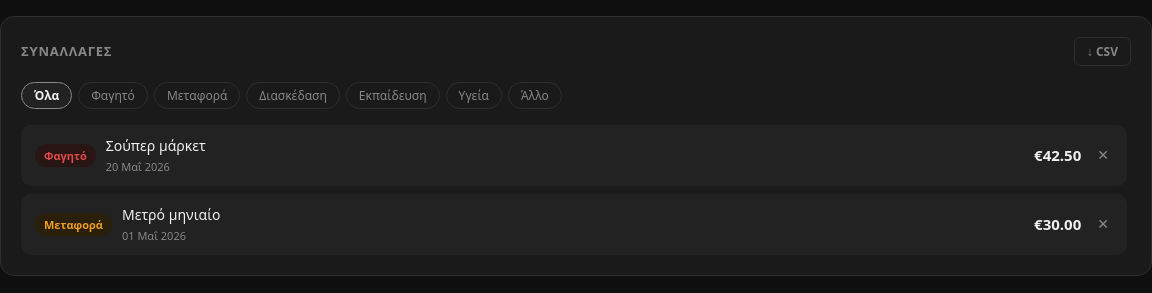
ExpenseList — category filter › filtering by category with no matches shows empty message
Step 1. Click the button "Υγεία" → (474, 96), box [446, 82, 502, 109]
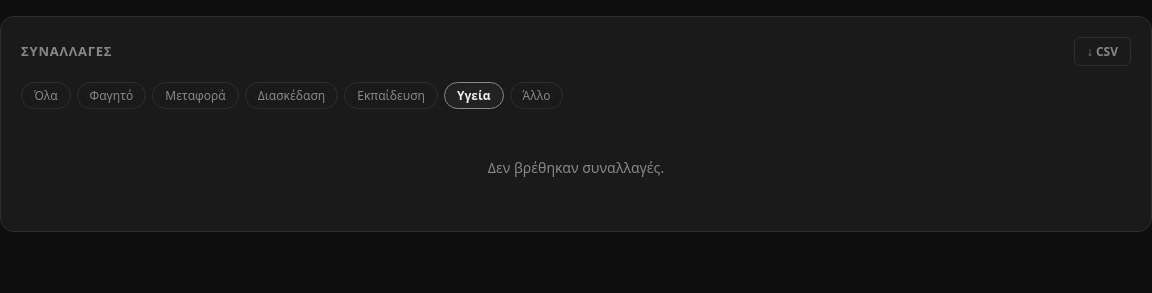
Now the text "Δεν βρέθηκαν συναλλαγές." is shown, box [488, 158, 664, 177]
